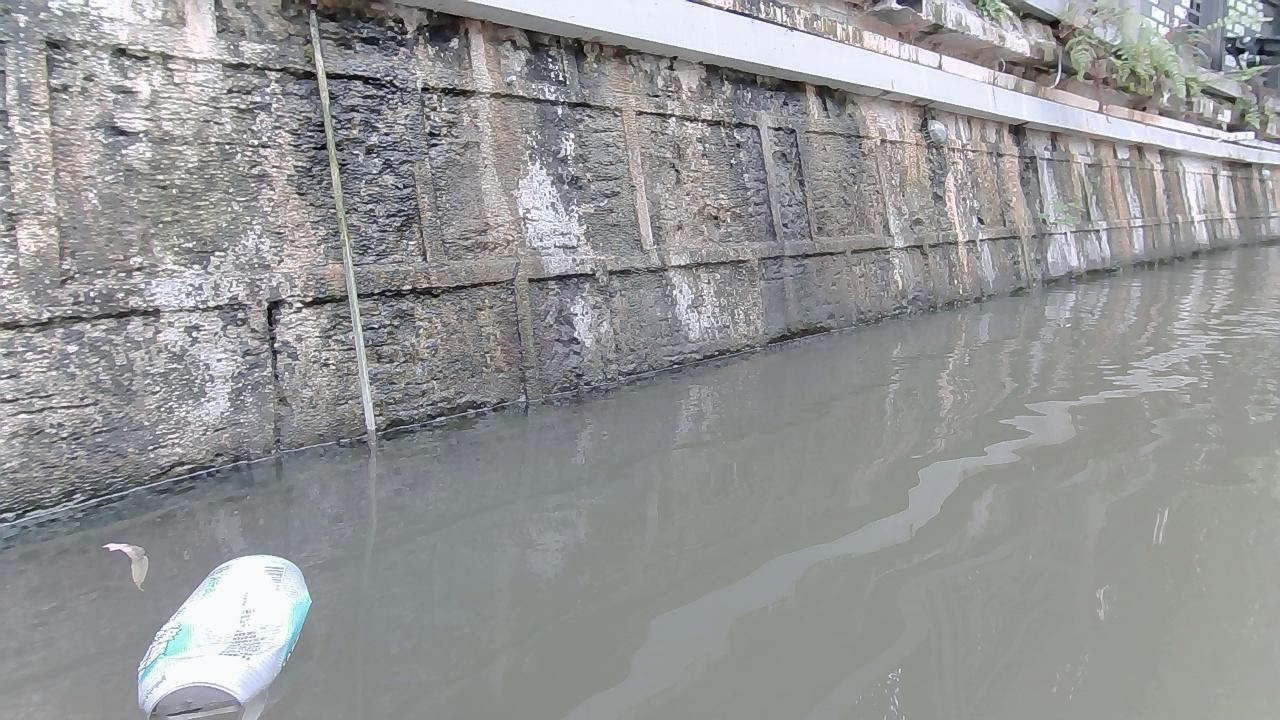Metal: (135, 552, 315, 720)
